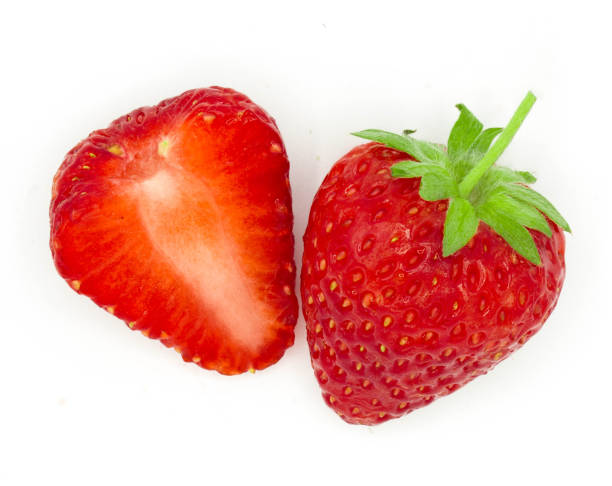Fresa: (300, 123, 577, 432), (43, 81, 302, 383)
